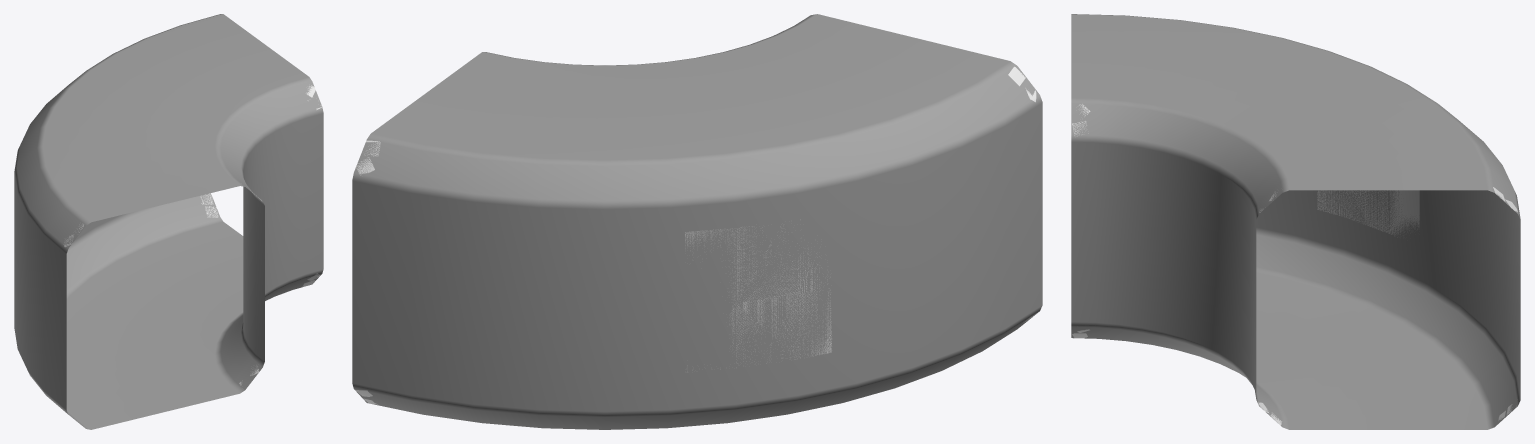
Rendered from VentCorner.fbx.
The picture shows the model from 3 angles, left to right: view 1: azimuth 30°, elevation 25°; view 2: azimuth 150°, elevation 25°; view 3: azimuth 270°, elevation 25°; orthographic projection. The views are drawn at different scales.
Visible parts, largest first — view 1: Cube.066; view 2: Cube.066, StylizedHardSurface_Decals_060.002_projected; view 3: Cube.066, StylizedHardSurface_Decals_060.002_projected.
Boxes of the visible parts, x1,y1,x2,y2 form: Cube.066: [14, 14, 323, 429]; Cube.066: [352, 14, 1042, 429]; StylizedHardSurface_Decals_060.002_projected: [685, 219, 831, 372]; Cube.066: [1071, 14, 1520, 429]; StylizedHardSurface_Decals_060.002_projected: [1317, 190, 1419, 237].
Size of the model in its own units: 213 by 125 by 212.
